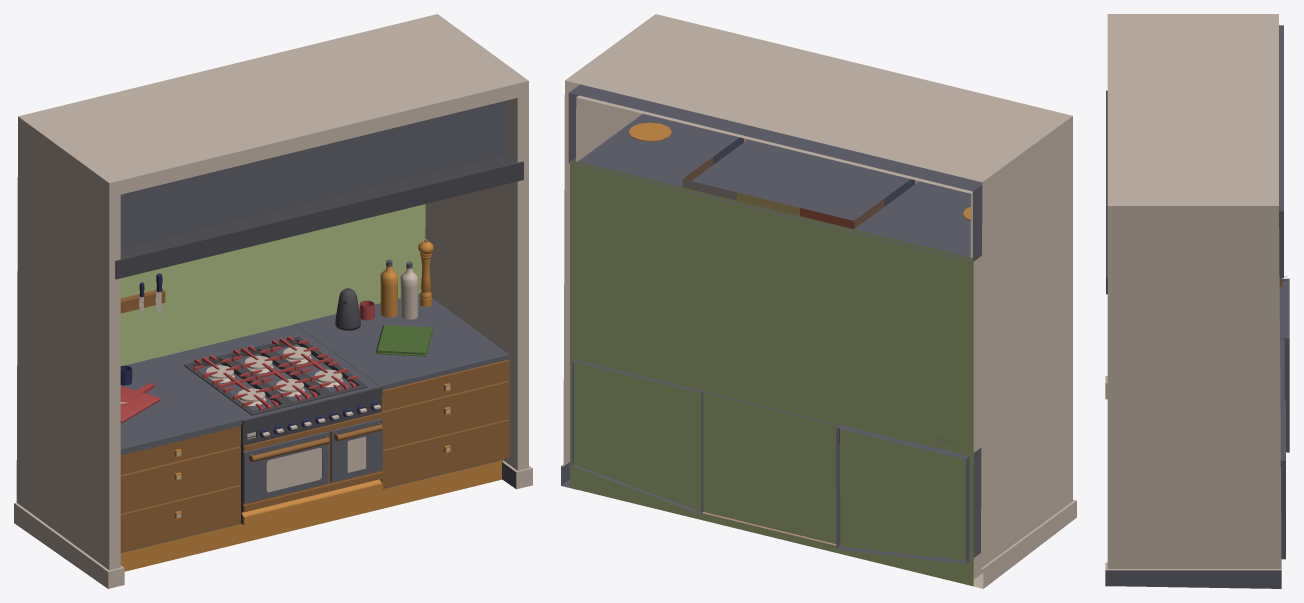
File: PlayerGroundKitchen.FBX
3 renders of one model, left to right at view 1: azimuth 30°, elevation 25°; view 2: azimuth 150°, elevation 25°; view 3: azimuth 270°, elevation 25°, orthographic. The views are drawn at different scales.
Parts seen in each view (by area): view 1: Kitchen; view 2: Kitchen; view 3: Kitchen.
Part boxes in pixels (x1,y1,x2,y2): Kitchen: (14,14,532,588); Kitchen: (561,14,1076,588); Kitchen: (1105,14,1289,588).
Bounding box in the file's own units: 149 × 137 × 59.87.
